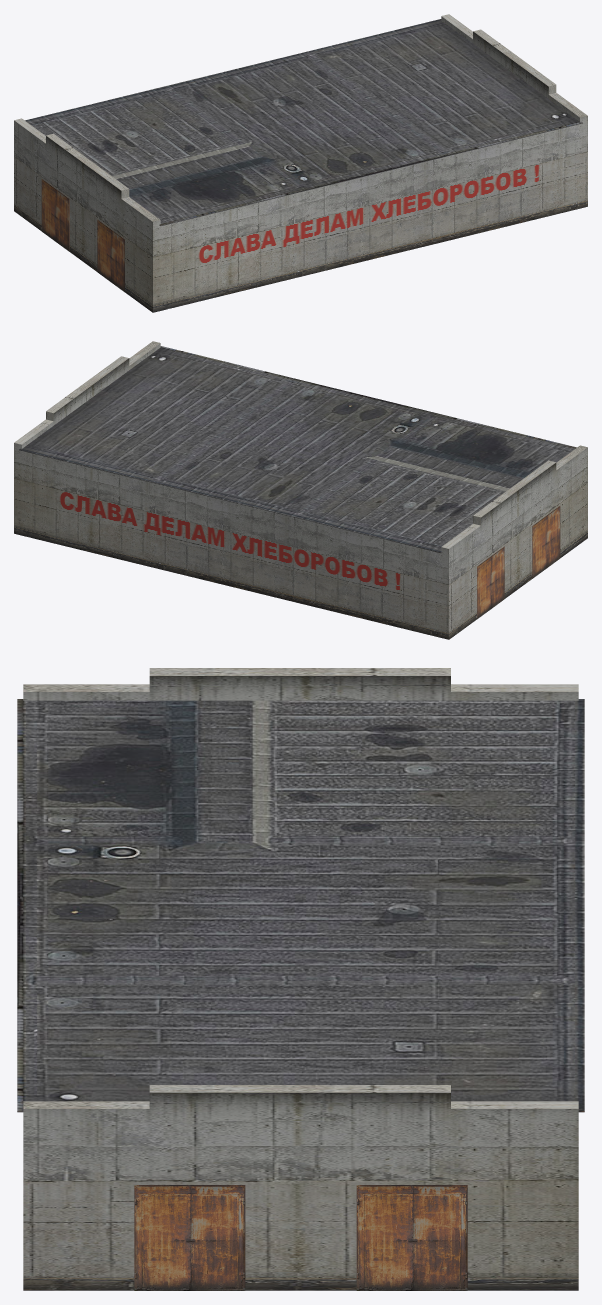
The model's file is r402_borovoe_angar5.FBX.
3 renders of one model, top to bottom at view 1: azimuth 30°, elevation 25°; view 2: azimuth 150°, elevation 25°; view 3: azimuth 270°, elevation 25°, orthographic. The views are drawn at different scales.
Visible parts, largest first — view 1: r402_borovoe_angar5; view 2: r402_borovoe_angar5; view 3: r402_borovoe_angar5.
Boxes of the visible parts, x1,y1,x2,y2 form: r402_borovoe_angar5: [14, 14, 587, 312]; r402_borovoe_angar5: [14, 341, 587, 639]; r402_borovoe_angar5: [17, 668, 584, 1290].
Bounding box in the file's own units: 36.19 × 20.43 × 7.86.
